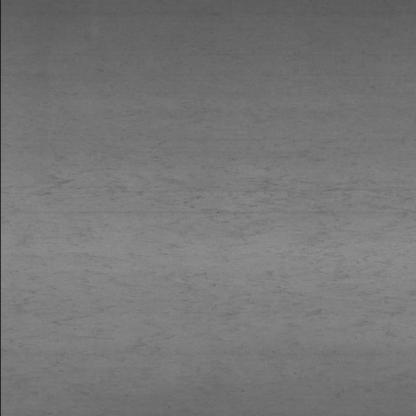silk_spot: (18, 242, 409, 409), (10, 155, 392, 237)
